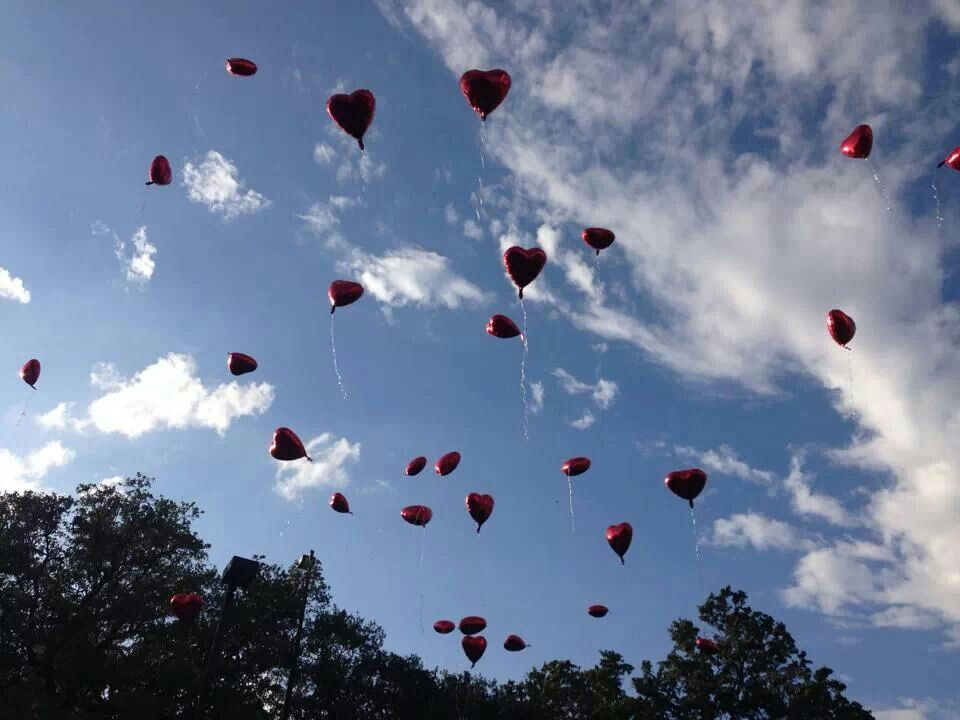Balloon: (325, 89, 377, 140), (459, 69, 512, 117), (501, 246, 547, 288), (267, 426, 309, 464), (664, 467, 707, 501), (839, 123, 874, 160), (826, 308, 856, 348), (169, 589, 201, 623), (328, 279, 364, 309), (464, 492, 496, 525), (483, 315, 523, 339), (606, 521, 633, 556), (226, 350, 258, 376), (148, 154, 174, 186), (581, 227, 616, 250), (400, 504, 434, 526), (224, 56, 258, 78), (461, 635, 487, 663), (434, 451, 461, 477), (329, 489, 351, 517), (561, 457, 593, 476), (21, 358, 41, 385), (459, 616, 487, 634), (403, 456, 428, 476), (503, 635, 526, 652), (433, 620, 456, 634)
